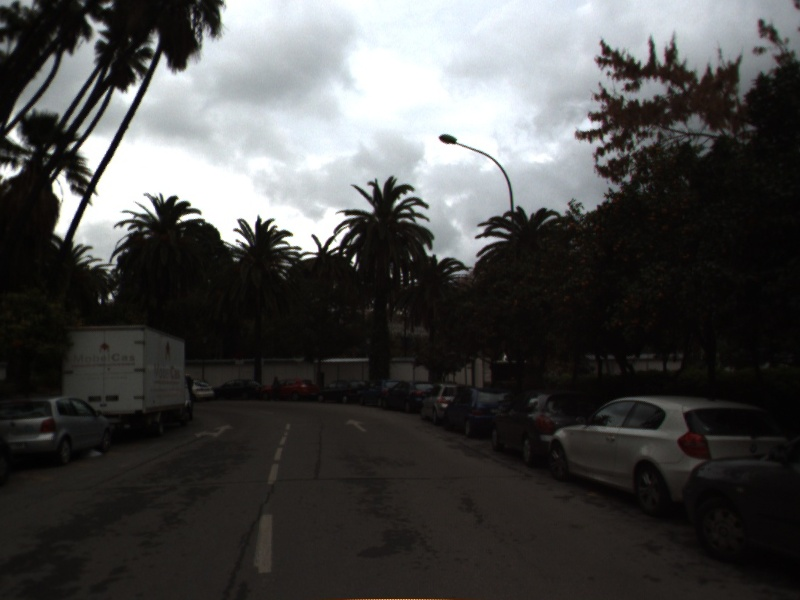STRAIGHT: (343, 417, 370, 434)
STRAIGHT_LEFT: (191, 422, 237, 441)
